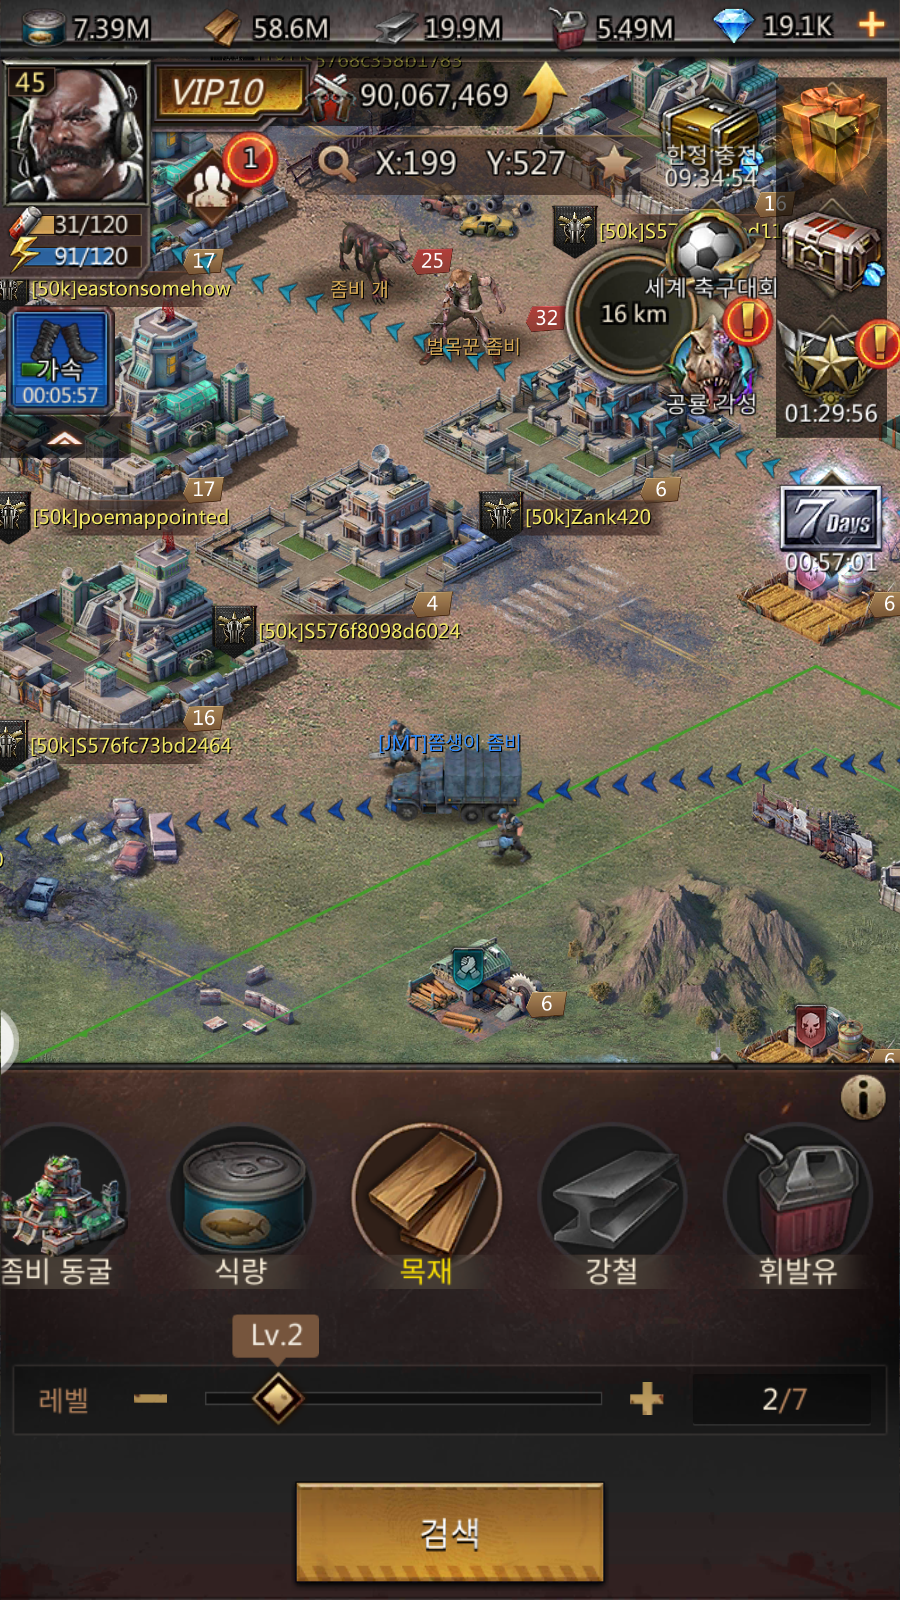rss_food_in_panel: (170, 1124, 315, 1291)
rss_gas_in_panel: (725, 1120, 875, 1298)
rss_lv2: (232, 1313, 317, 1357)
rss_minus_in_panel: (122, 1371, 176, 1422)
rss_plus_in_panel: (620, 1373, 670, 1424)
rss_search_in_panel: (297, 1485, 602, 1580)
rss_steel_in_panel: (539, 1122, 693, 1295)
rss_wood_in_panel: (353, 1124, 505, 1298)
troops_cnt_1: (164, 124, 285, 242)
